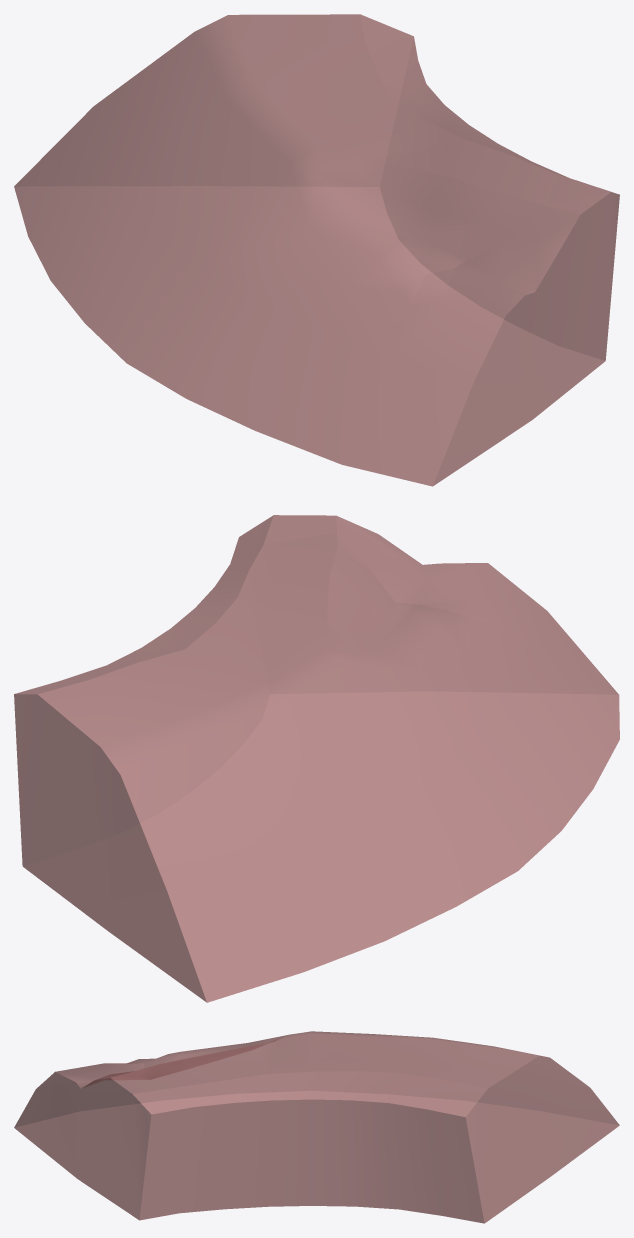
The model's file is FloorCircular03Broken_COL.fbx.
The picture shows the model from 3 angles, top to bottom: view 1: azimuth 30°, elevation 25°; view 2: azimuth 150°, elevation 25°; view 3: azimuth 270°, elevation 25°; orthographic projection. The views are drawn at different scales.
Visible parts, largest first — view 1: FloorCircular03Broken_COL; view 2: FloorCircular03Broken_COL; view 3: FloorCircular03Broken_COL.
Boxes of the visible parts, x1=… form: FloorCircular03Broken_COL: x1=14, y1=14, x2=619, y2=486; FloorCircular03Broken_COL: x1=14, y1=515, x2=619, y2=1002; FloorCircular03Broken_COL: x1=14, y1=1031, x2=619, y2=1223.
Bounding box in the file's own units: 1581 × 676 × 2881.
